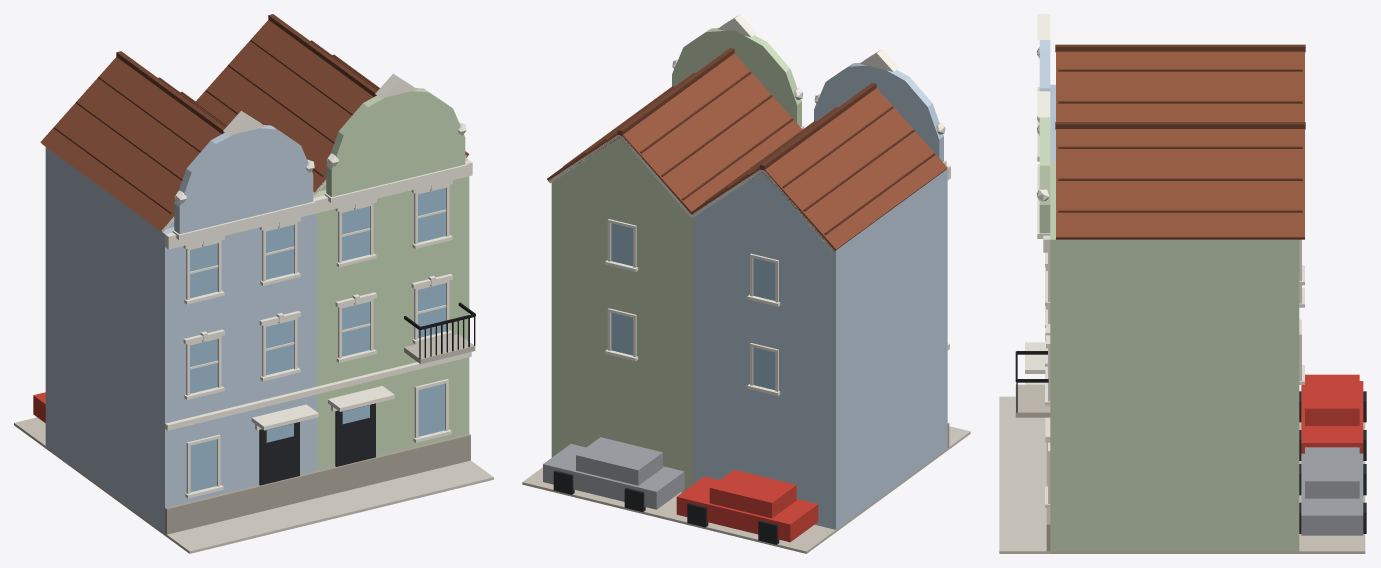
The model's file is Blok_duz_3k_6_Hafif.fbx.
The picture shows the model from 3 angles, left to right: view 1: azimuth 30°, elevation 25°; view 2: azimuth 150°, elevation 25°; view 3: azimuth 270°, elevation 25°; orthographic projection. The views are drawn at different scales.
Visible parts, largest first — view 1: Blok_duz_3k_6_Hafif; view 2: Blok_duz_3k_6_Hafif; view 3: Blok_duz_3k_6_Hafif.
Boxes of the visible parts, left/top/right/bottom form: Blok_duz_3k_6_Hafif: left=14, top=14, right=493, bottom=553; Blok_duz_3k_6_Hafif: left=522, top=14, right=970, bottom=553; Blok_duz_3k_6_Hafif: left=999, top=14, right=1366, bottom=553.
Size of the model in its own units: 10.18 by 12.78 by 10.04.
